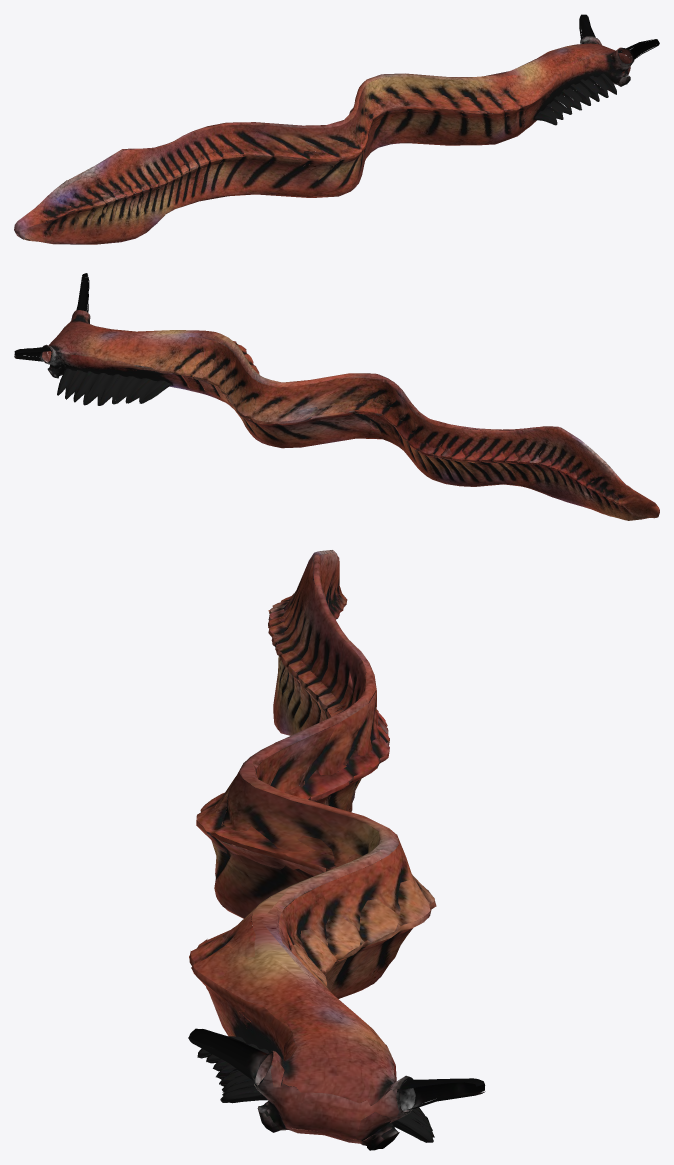
Rendered from pikaia.glb.
3 views of the same model, one above another, from view 1: azimuth 30°, elevation 25°; view 2: azimuth 150°, elevation 25°; view 3: azimuth 270°, elevation 25° (orthographic). The views are drawn at different scales.
Visible parts, largest first — view 1: 0; view 2: 0; view 3: 0.
Boxes of the visible parts, x1,y1,x2,y2 form: 0: (14,14,659,244); 0: (14,273,659,520); 0: (188,550,485,1150).
Size of the model in its own units: 0.9998 by 0.1441 by 0.2115.
1 material, 1 textured.
